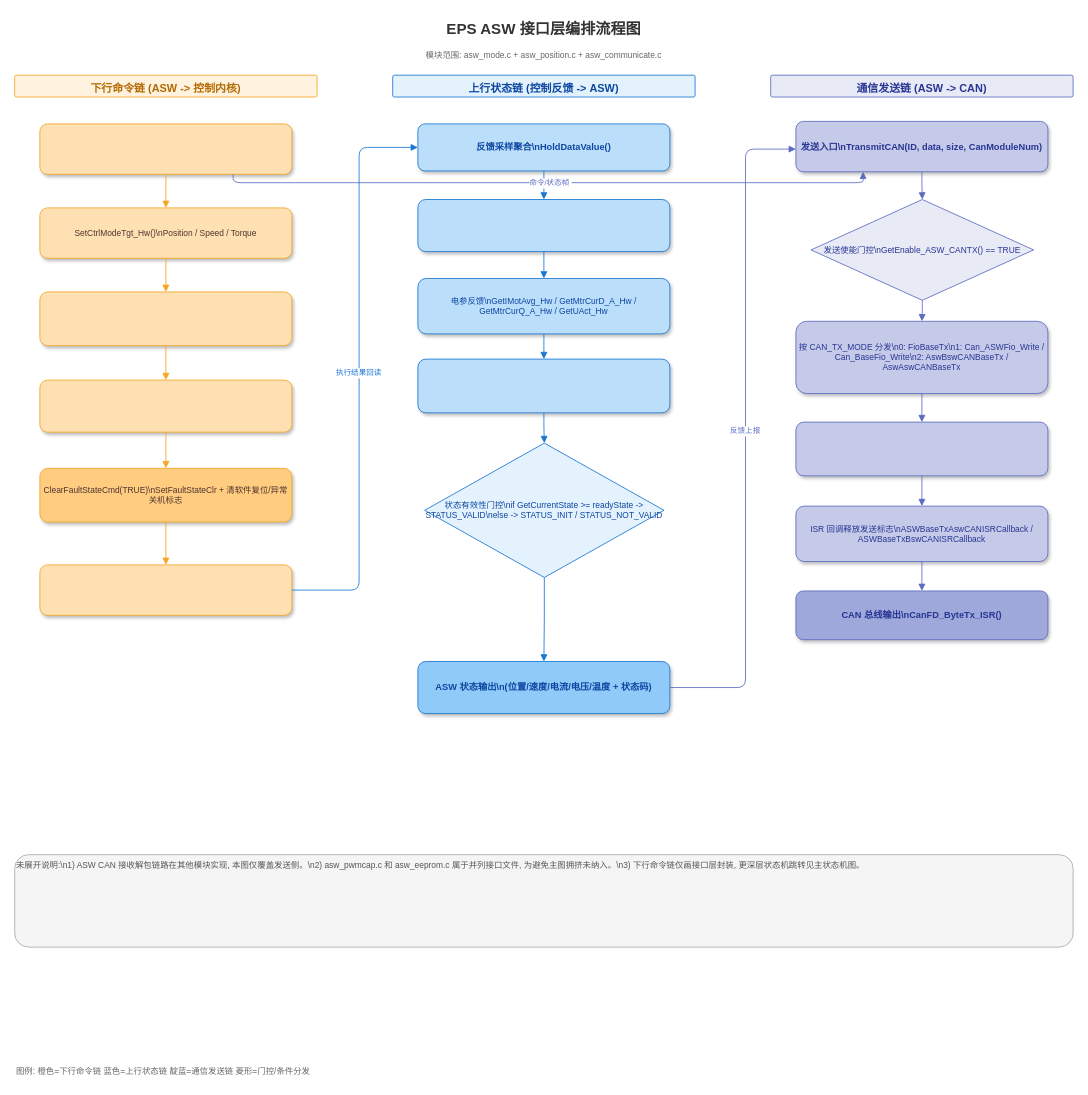
This 1088x1095 diagram has some shape labels left out. Each missing label, with the centre of its shape:
ASW 命令输入\nCtrlMode / TgtValue / PwrSt / FaultClr: pixel 166 150
SetModePwrSt_Hw()\nMOTOR_ON / MOTOR_OFF -> SetMotorAppOnState: pixel 166 407
SetTgtValue_Hw()\n按当前模式写入 PosReq / SpdReq / TorqueReq: pixel 166 320
位置速度反馈\nGetMtrPos_deg_Hw / GetMtrPos_Hw / GetMtrSpd_rpm_Hw: pixel 544 226
控制内核执行\n(状态机 + FOC + 功率级): pixel 166 591
环境反馈\nGetPwrSupyVolt_V_Hw / GetTcPcb_Hw / GetECUMosTem_DegC_Hw: pixel 544 387
队列缓存\nASWFioAswCANBasePoll / ASWFioBswCANBasePoll: pixel 922 450
